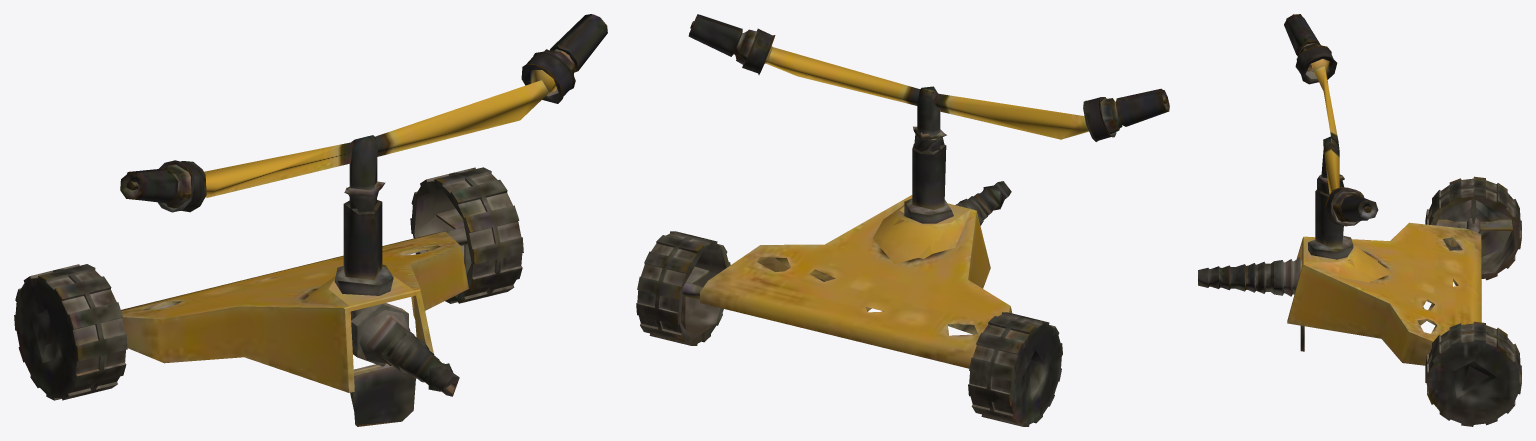
The model's file is garden_sprinkler_01.glb.
3 views of the same model, side by side, from view 1: azimuth 30°, elevation 25°; view 2: azimuth 150°, elevation 25°; view 3: azimuth 270°, elevation 25° (orthographic). The views are drawn at different scales.
Parts seen in each view (by area): view 1: garden_sprinkler_01_body_main, garden_sprinkler_01_wheels, garden_sprinkler_01_spinner, garden_sprinkler_01_nozel_left, garden_sprinkler_01_nozel_right; view 2: garden_sprinkler_01_body_main, garden_sprinkler_01_wheels, garden_sprinkler_01_spinner, garden_sprinkler_01_nozel_left, garden_sprinkler_01_nozel_right; view 3: garden_sprinkler_01_body_main, garden_sprinkler_01_wheels, garden_sprinkler_01_nozel_left, garden_sprinkler_01_spinner, garden_sprinkler_01_nozel_right.
Part boxes in pixels (box(x1,y1,x2,y2)): garden_sprinkler_01_body_main: box(121, 181, 468, 426); garden_sprinkler_01_wheels: box(14, 167, 523, 400); garden_sprinkler_01_spinner: box(204, 70, 556, 208); garden_sprinkler_01_nozel_left: box(120, 160, 206, 212); garden_sprinkler_01_nozel_right: box(521, 14, 607, 103); garden_sprinkler_01_body_main: box(700, 126, 1011, 368); garden_sprinkler_01_wheels: box(636, 231, 1062, 426); garden_sprinkler_01_spinner: box(764, 46, 1088, 151); garden_sprinkler_01_nozel_left: box(1083, 88, 1169, 141); garden_sprinkler_01_nozel_right: box(688, 14, 775, 74); garden_sprinkler_01_body_main: box(1198, 174, 1481, 365); garden_sprinkler_01_wheels: box(1425, 176, 1521, 426); garden_sprinkler_01_nozel_left: box(1284, 14, 1337, 84); garden_sprinkler_01_spinner: box(1311, 59, 1339, 194); garden_sprinkler_01_nozel_right: box(1325, 186, 1378, 226).
Bounding box in the file's own units: 0.3508 × 0.203 × 0.2491.
1 material, 1 textured.
